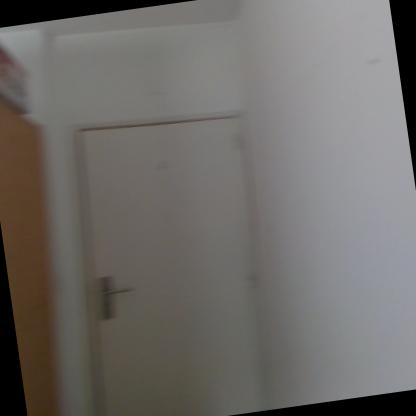closed: (44, 80, 313, 415)
